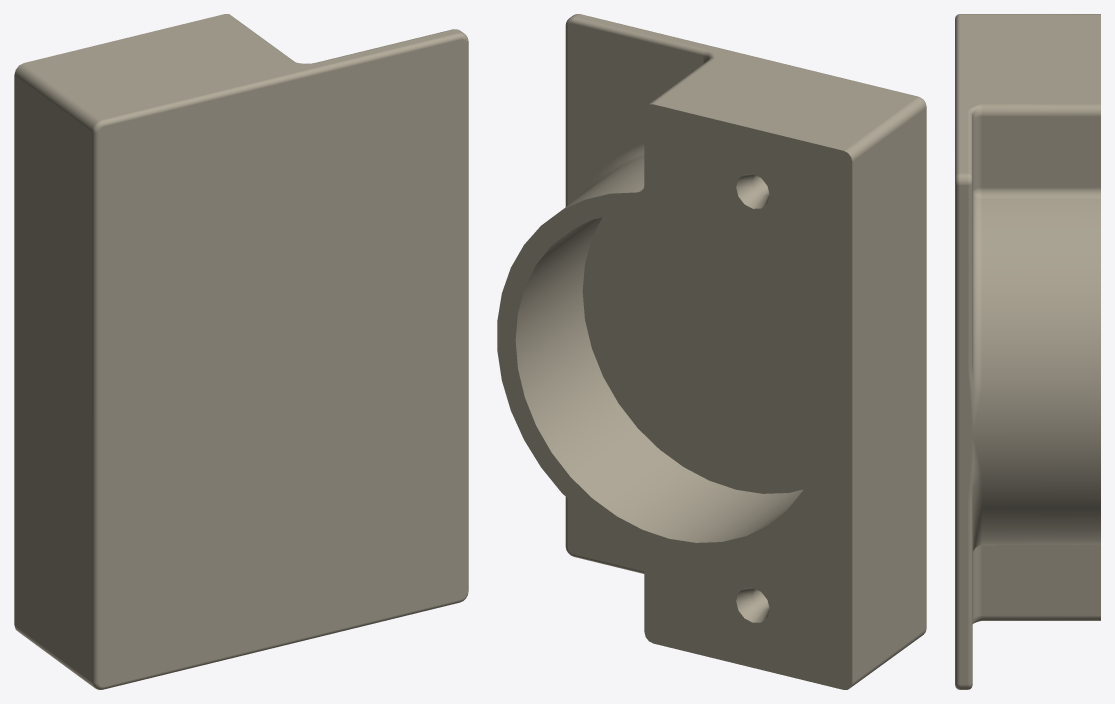
The picture shows the model from 3 angles, left to right: view 1: azimuth 30°, elevation 25°; view 2: azimuth 150°, elevation 25°; view 3: azimuth 270°, elevation 25°; orthographic projection. The views are drawn at different scales.
Parts seen in each view (by area): view 1: bau2463069651; view 2: bau2463069651; view 3: bau2463069651.
Boxes of the visible parts, x1,y1,x2,y2 form: bau2463069651: (14,14,468,689); bau2463069651: (497,14,926,689); bau2463069651: (955,14,1100,689).
Bounding box in the file's own units: 40.47 × 58.62 × 15.
